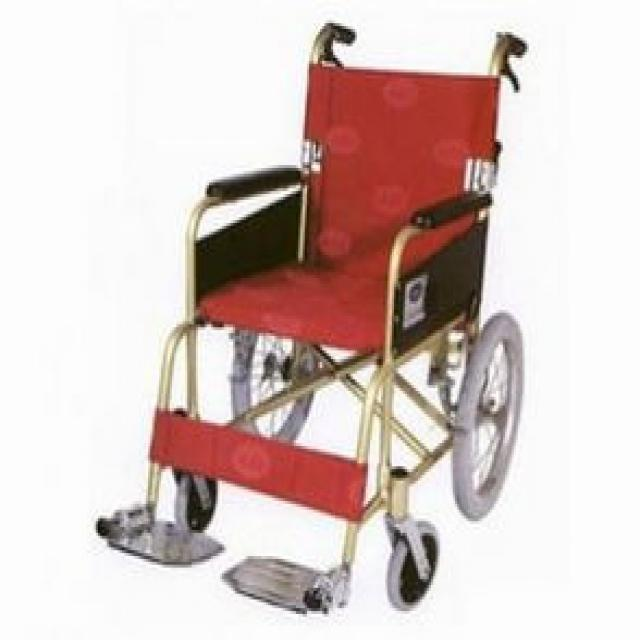wheelchair: (80, 6, 574, 634)
